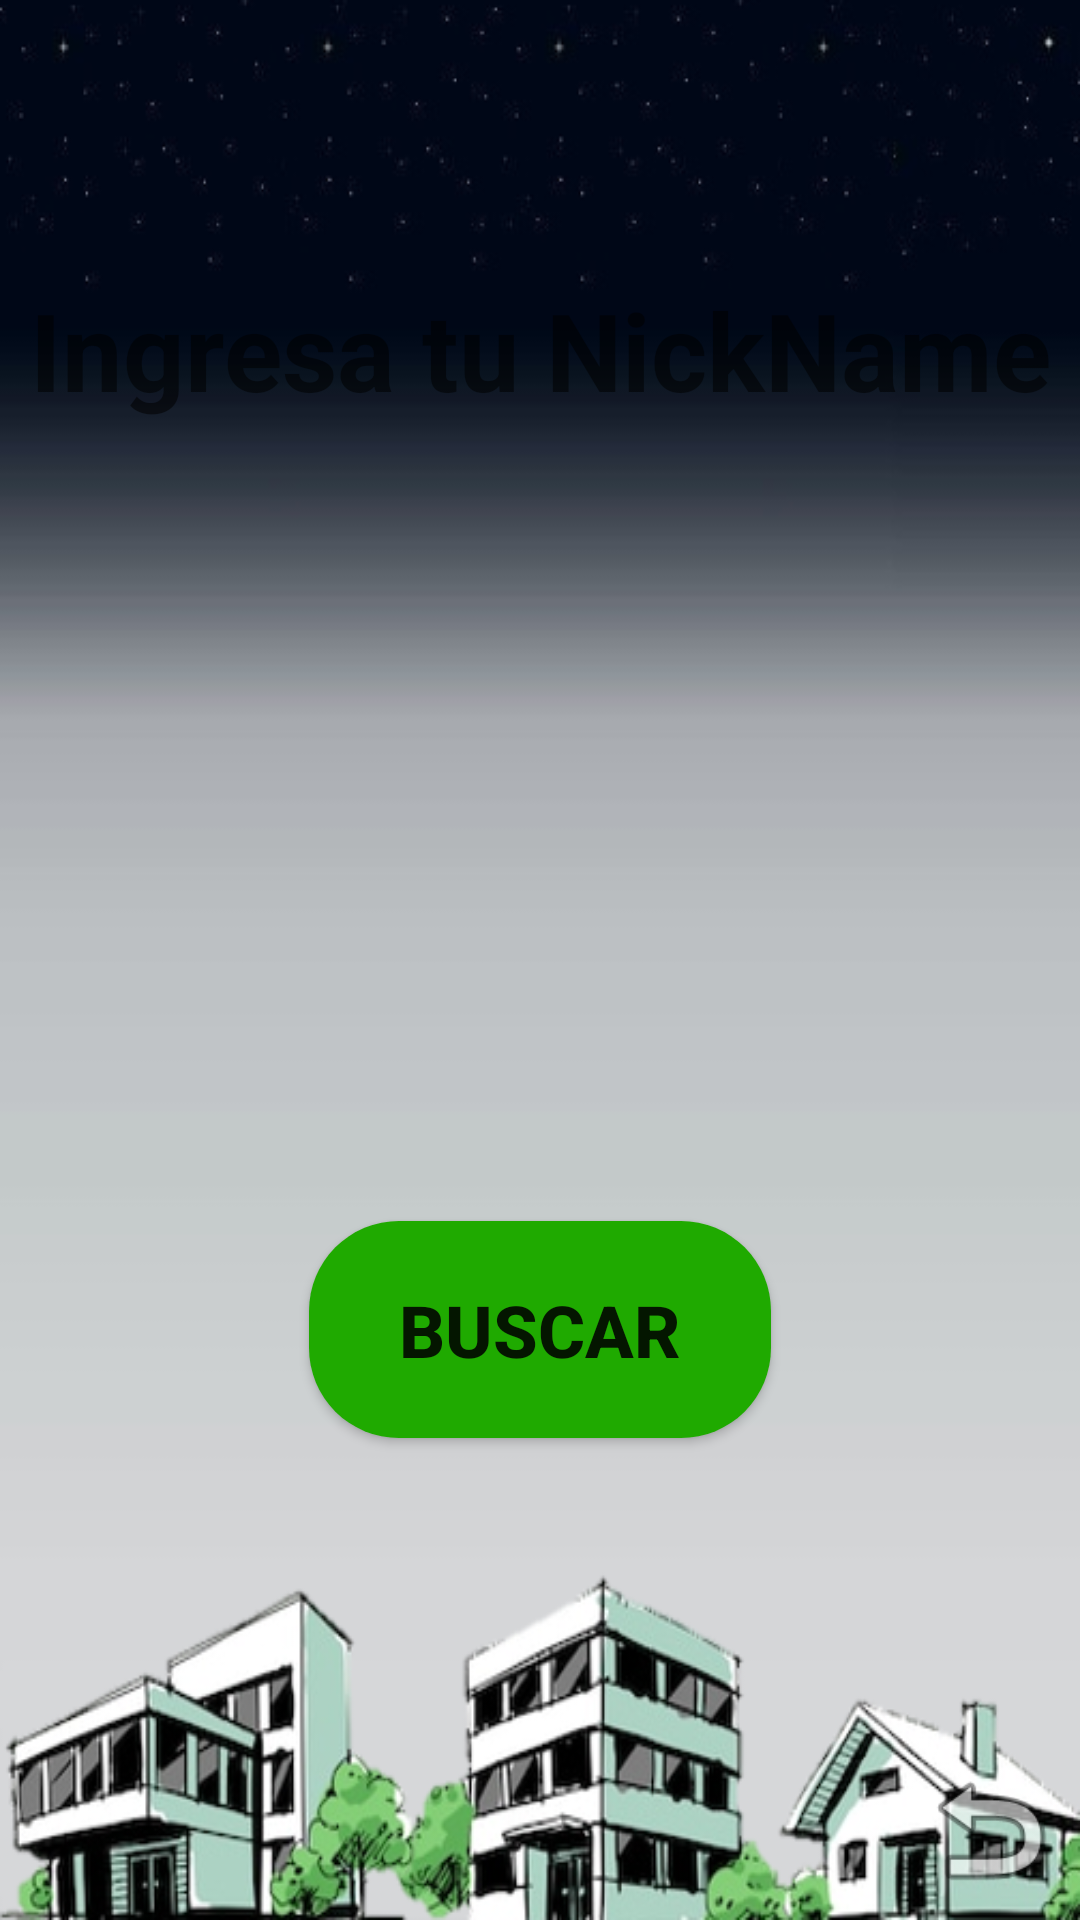

Screen size 1080w x 1920h. Icon name, then its center in pixels as (x=x, y=y):
revert: (x=990, y=1830)
